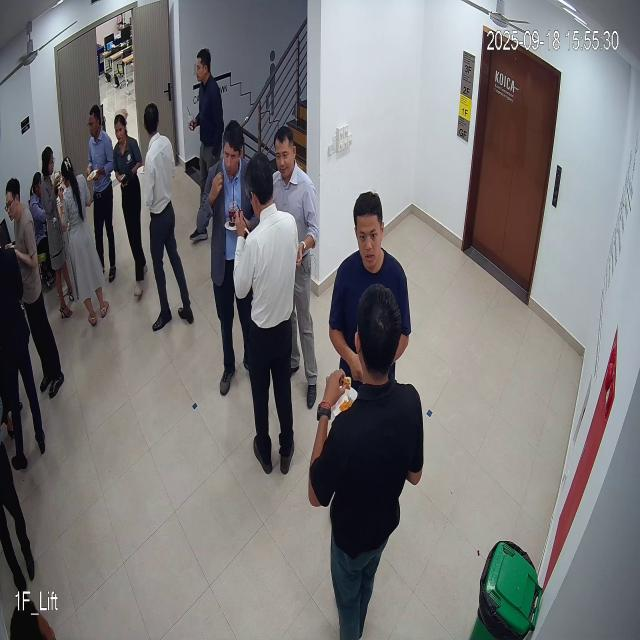face: (351, 183, 386, 278), (216, 116, 247, 183), (269, 126, 297, 178)
